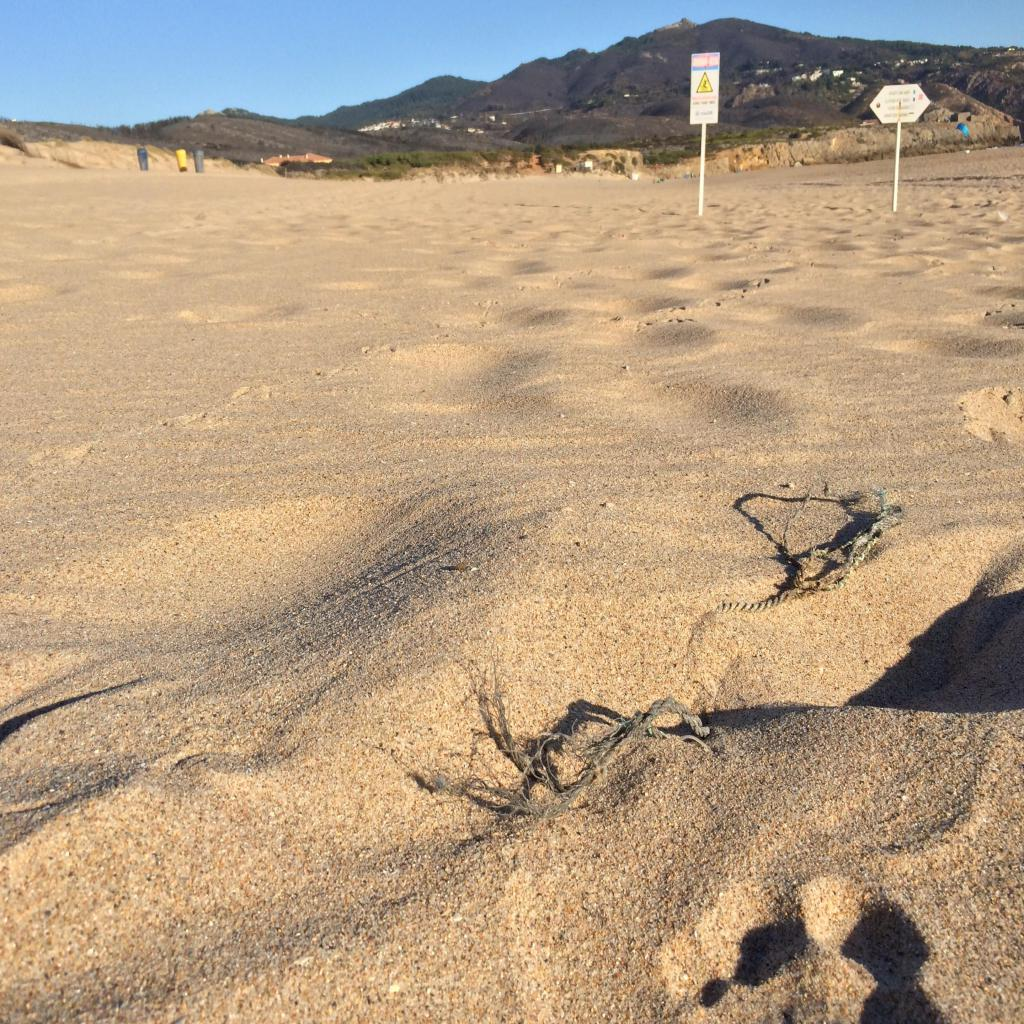Rope - strings: (434, 686, 712, 818), (714, 478, 904, 614)
